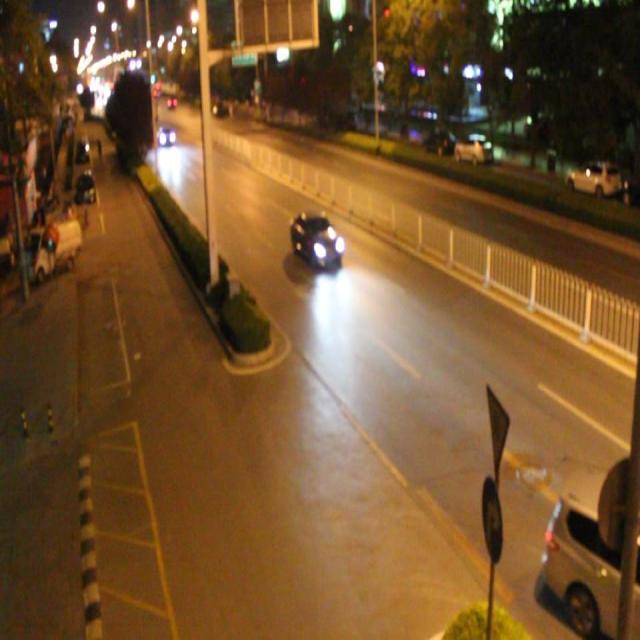car: (548, 463, 640, 639), (290, 211, 340, 271), (156, 122, 175, 148)
